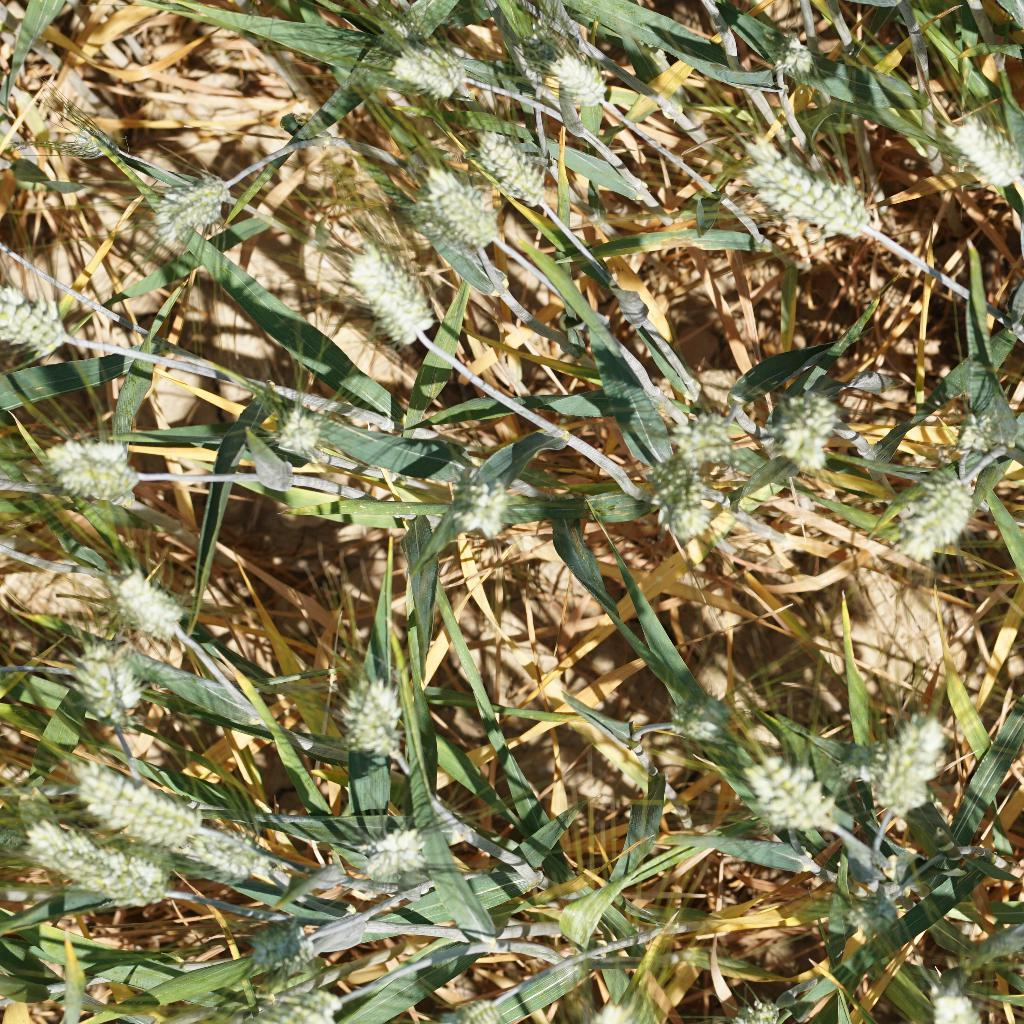0-0: (735, 131, 881, 249), (26, 818, 189, 916), (73, 761, 204, 849), (343, 235, 440, 351), (728, 752, 849, 838), (929, 96, 1024, 205), (855, 717, 946, 819), (770, 380, 851, 492), (894, 464, 979, 567), (182, 823, 307, 889), (92, 574, 200, 650), (473, 127, 563, 216), (43, 434, 144, 512), (0, 281, 88, 361), (339, 672, 417, 762), (384, 47, 485, 112), (413, 169, 497, 246), (150, 171, 234, 246), (71, 649, 142, 731), (668, 688, 759, 751), (653, 449, 710, 549), (257, 399, 344, 464), (550, 43, 617, 122), (350, 821, 429, 882), (507, 8, 565, 87), (50, 106, 125, 164), (448, 473, 514, 538), (759, 19, 821, 84), (256, 908, 320, 970), (672, 403, 733, 467), (947, 402, 1007, 464), (370, 7, 427, 66), (281, 984, 348, 1024), (926, 989, 992, 1024), (453, 995, 524, 1024)
